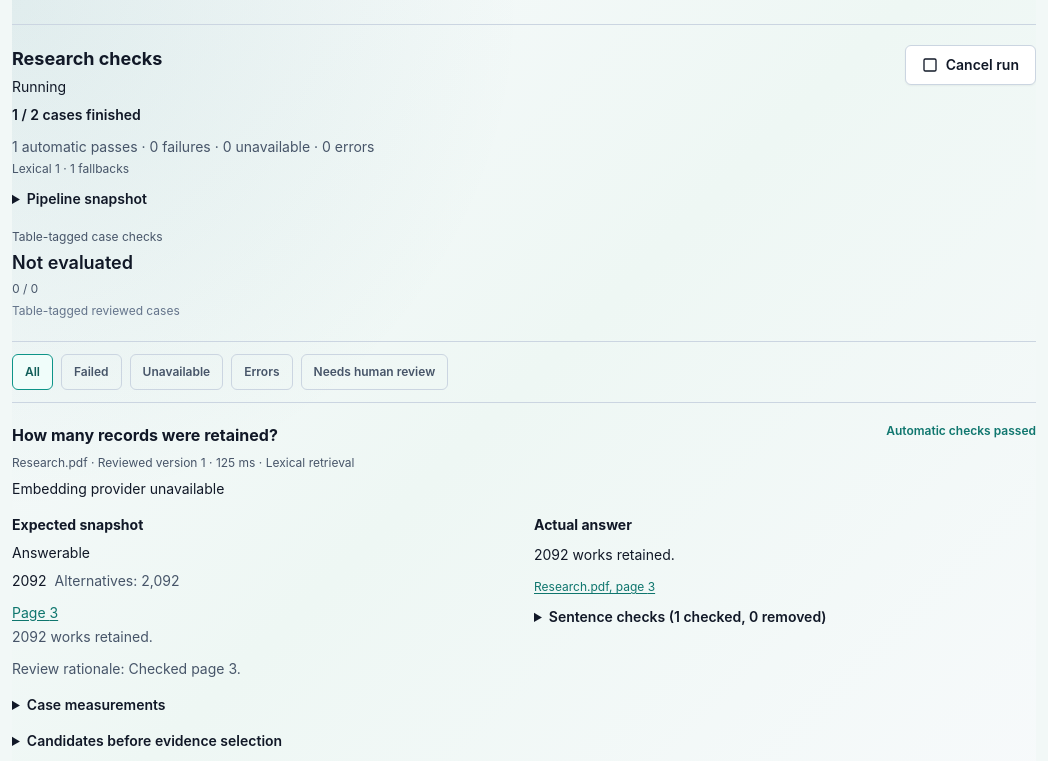
Test: BenchmarkRunResults › cancels between cases and keeps the already persisted result visible
This screenshot has width=1048, height=761.
Click the button "Cancel run" at (970, 65), box [905,45,1036,85]
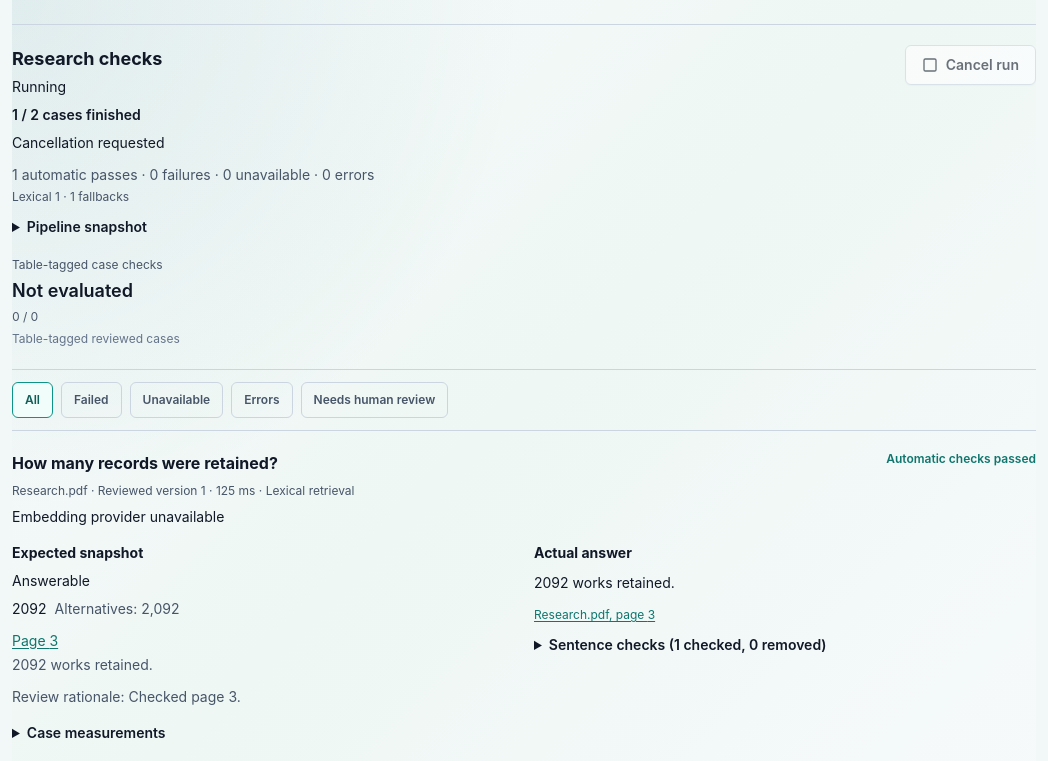
expect the heading "How many records were retained?" is shown: met, box [12,453,278,473]
expect the text "Cancellation requested" is shown: met, box [12,134,164,151]
